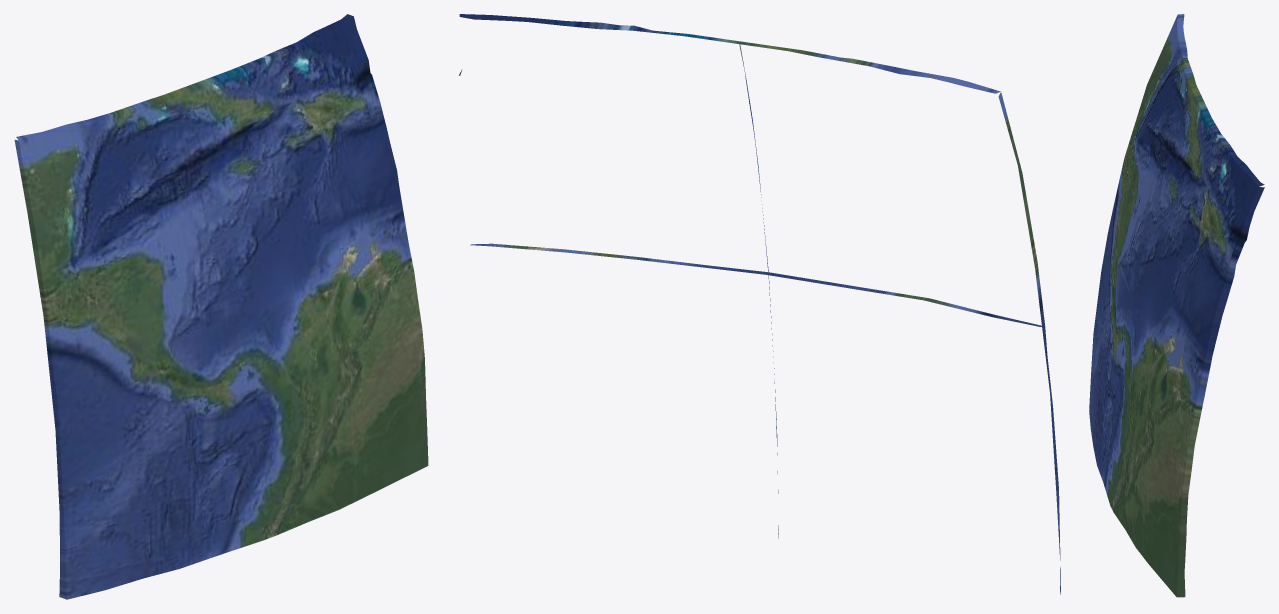
3 renders of one model, left to right at view 1: azimuth 30°, elevation 25°; view 2: azimuth 150°, elevation 25°; view 3: azimuth 270°, elevation 25°, orthographic. The views are drawn at different scales.
Bounding box in the file's own units: 2468342 × 2458696 × 975795.
Materials: 1 (1 with a texture image).
